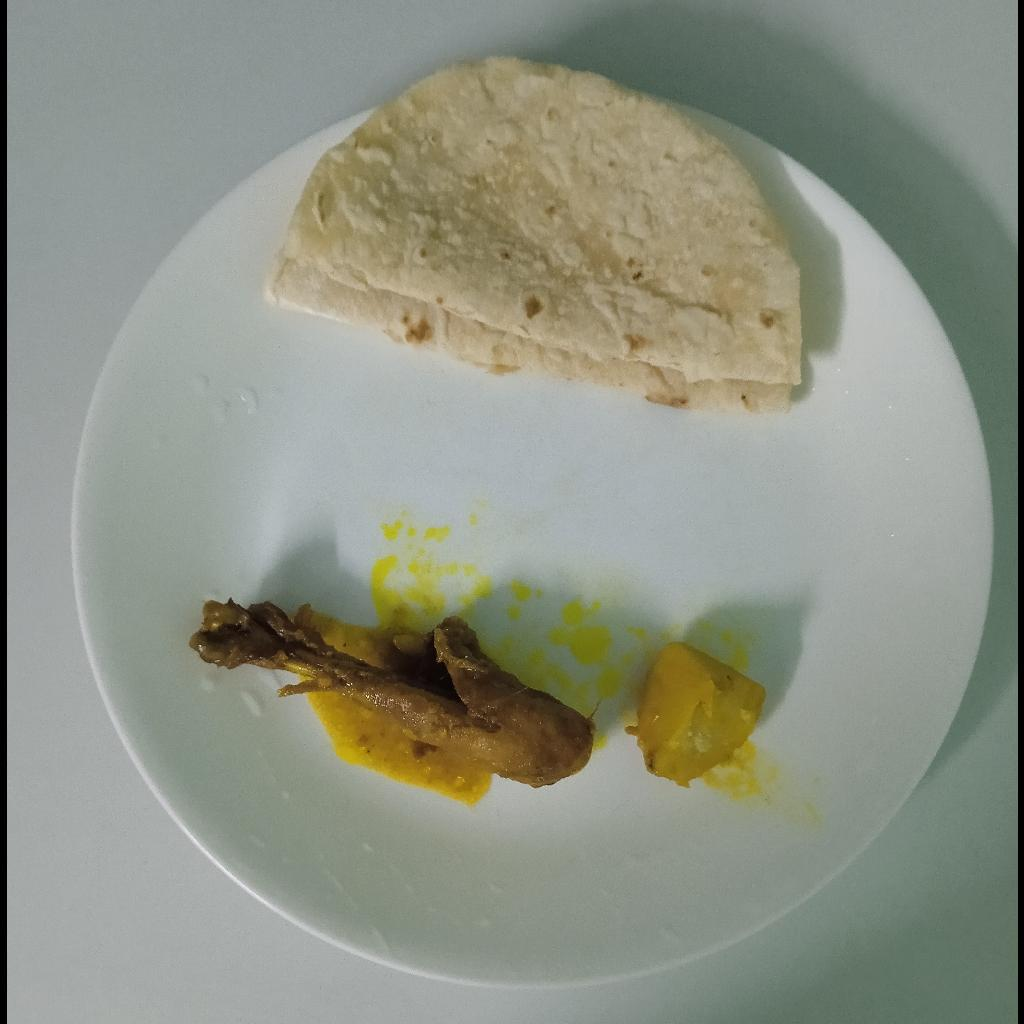chicken: (185, 598, 592, 788)
potato: (634, 640, 769, 785)
ruti: (258, 53, 805, 418)
